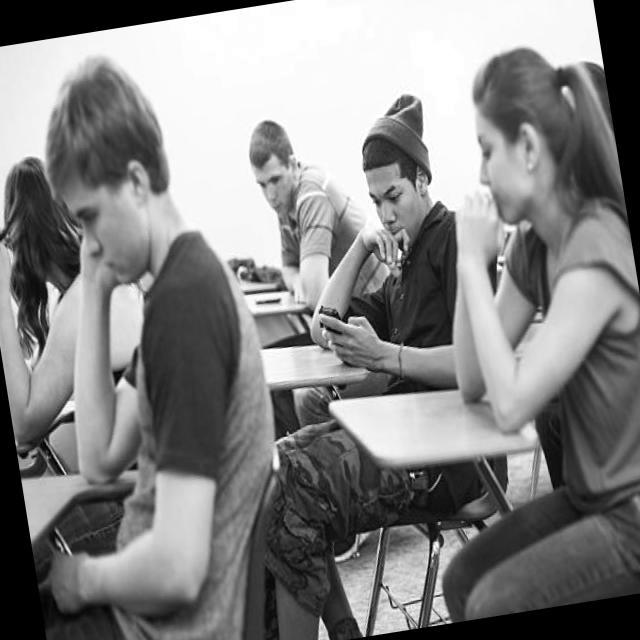phone: (317, 303, 344, 339)
